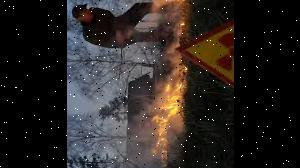fire: (146, 78, 188, 160)
